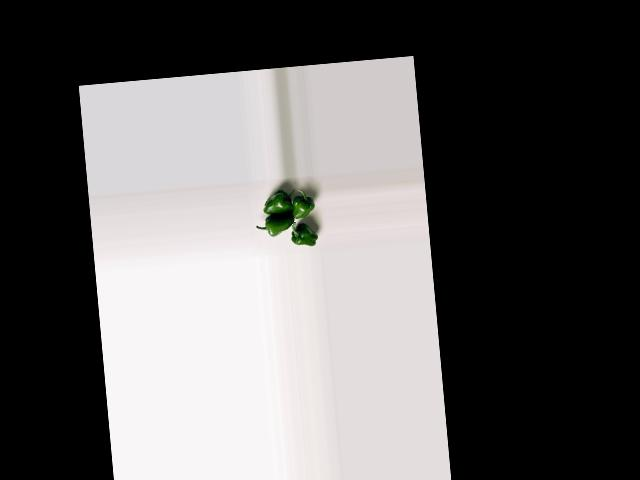bell_pepper: (292, 189, 315, 220)
